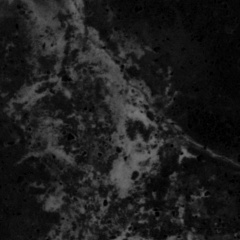Vegetation: (107, 78, 145, 122), (25, 2, 83, 29), (110, 160, 139, 199), (59, 214, 101, 240), (74, 34, 108, 66), (29, 121, 61, 154), (34, 32, 71, 57), (119, 137, 158, 160), (116, 36, 142, 58), (93, 63, 123, 80), (41, 192, 66, 211), (16, 88, 41, 106), (112, 123, 131, 146), (116, 230, 146, 240), (49, 75, 66, 92), (180, 148, 187, 163)
